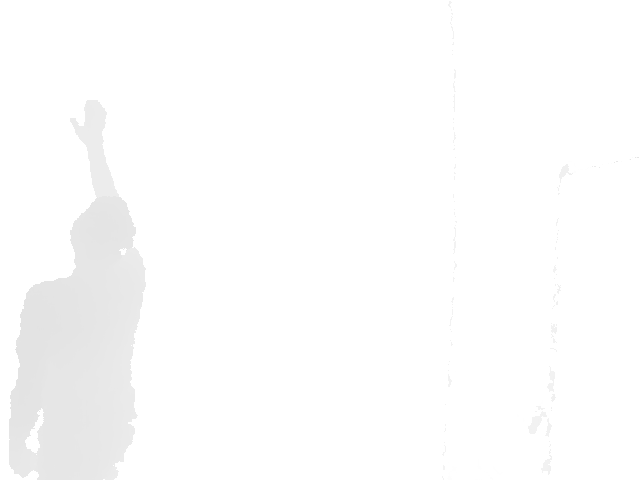hand: (67, 98, 108, 143)
head: (69, 196, 139, 283)
person: (7, 98, 146, 480)
